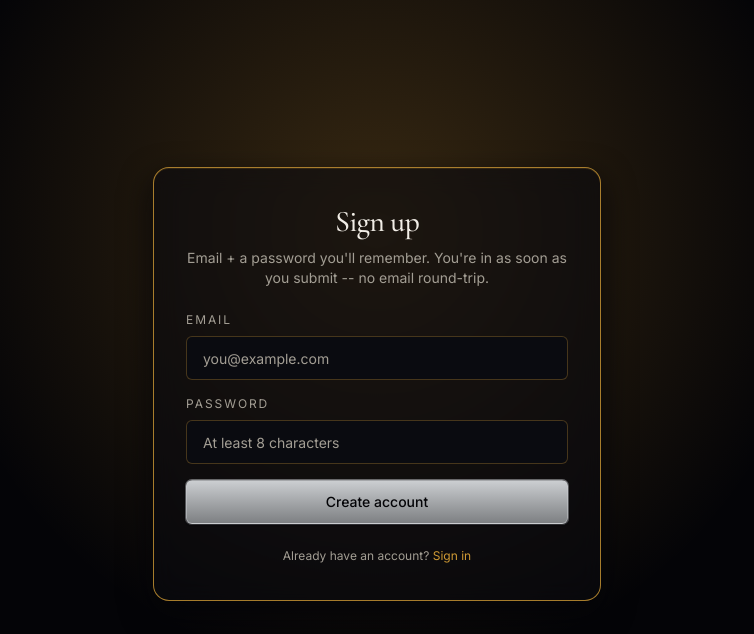
Test: app/signup/page — email + password signup form › shows the error message returned by the action
Type "a@b.co" into the field labelled "Email".
click(377, 358); type("a@b.co")  # box x1=186 y1=336 x2=568 y2=380
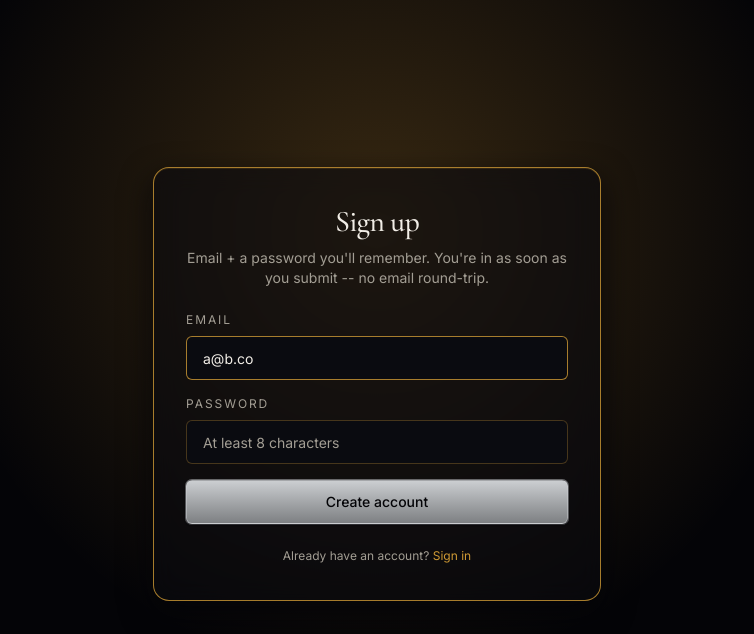
Type "correcthorse" into the password field labelled "Password".
click(377, 442); type("correcthorse")  # box x1=186 y1=420 x2=568 y2=464
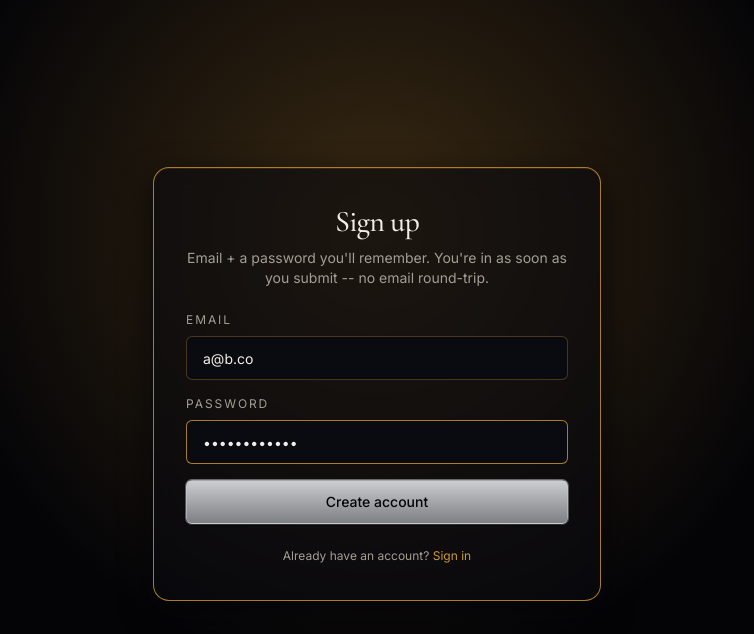
Click the button "Create account".
click(377, 502)  # box x1=186 y1=480 x2=568 y2=524
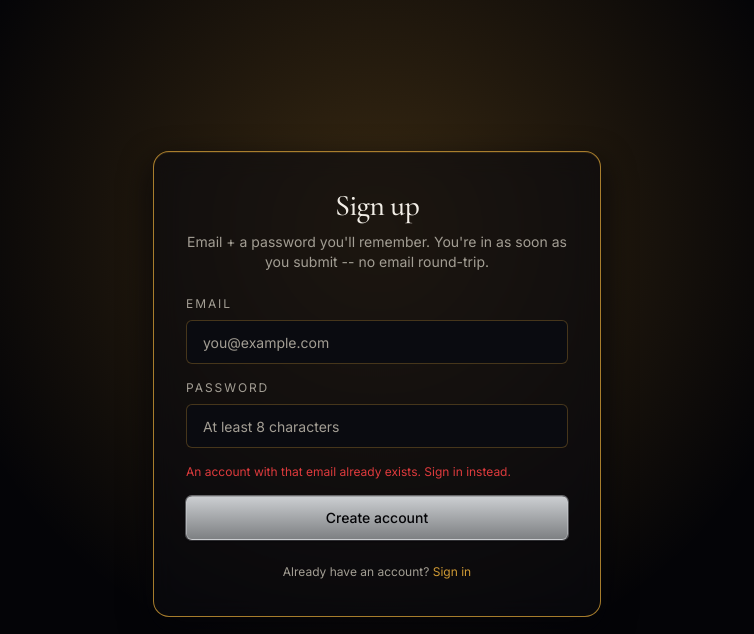
Now the message shows "already exists", box x1=186 y1=464 x2=511 y2=479
